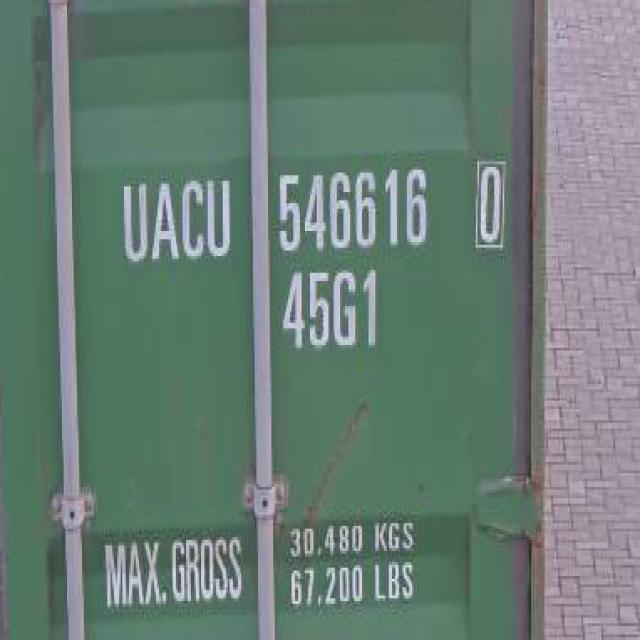dv: (469, 150, 511, 262)
owner: (116, 160, 235, 279)
serial: (272, 150, 434, 260)
size: (274, 263, 396, 358)
